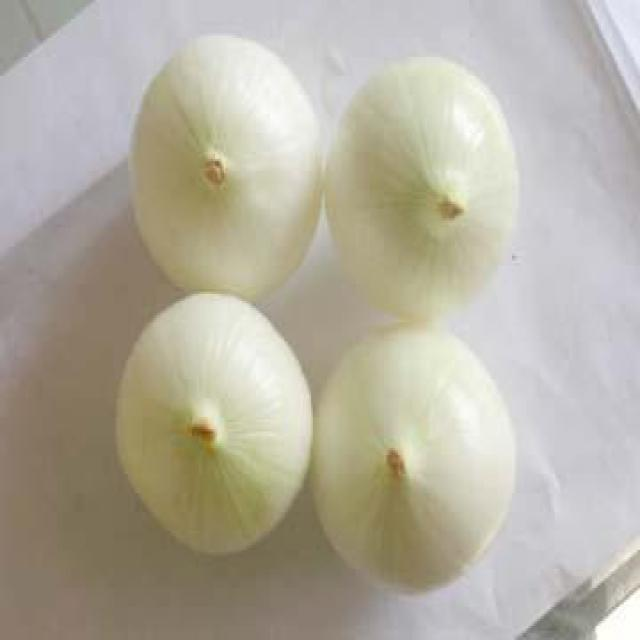Onion: (313, 324, 515, 592), (117, 289, 315, 555), (130, 30, 325, 298), (325, 60, 519, 322)
